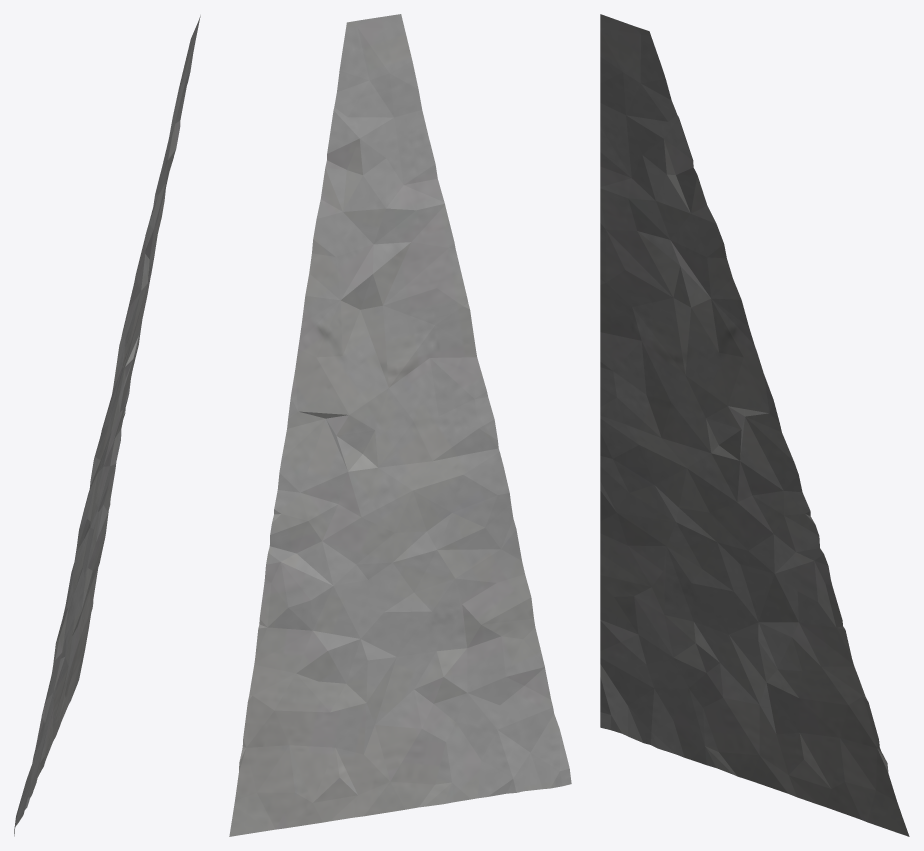
The picture shows the model from 3 angles, left to right: view 1: azimuth 30°, elevation 25°; view 2: azimuth 150°, elevation 25°; view 3: azimuth 270°, elevation 25°; orthographic projection. The views are drawn at different scales.
Bounding box in the file's own units: 0.2436 × 0.8373 × 0.2913.
Materials: 1 (1 with a texture image).
